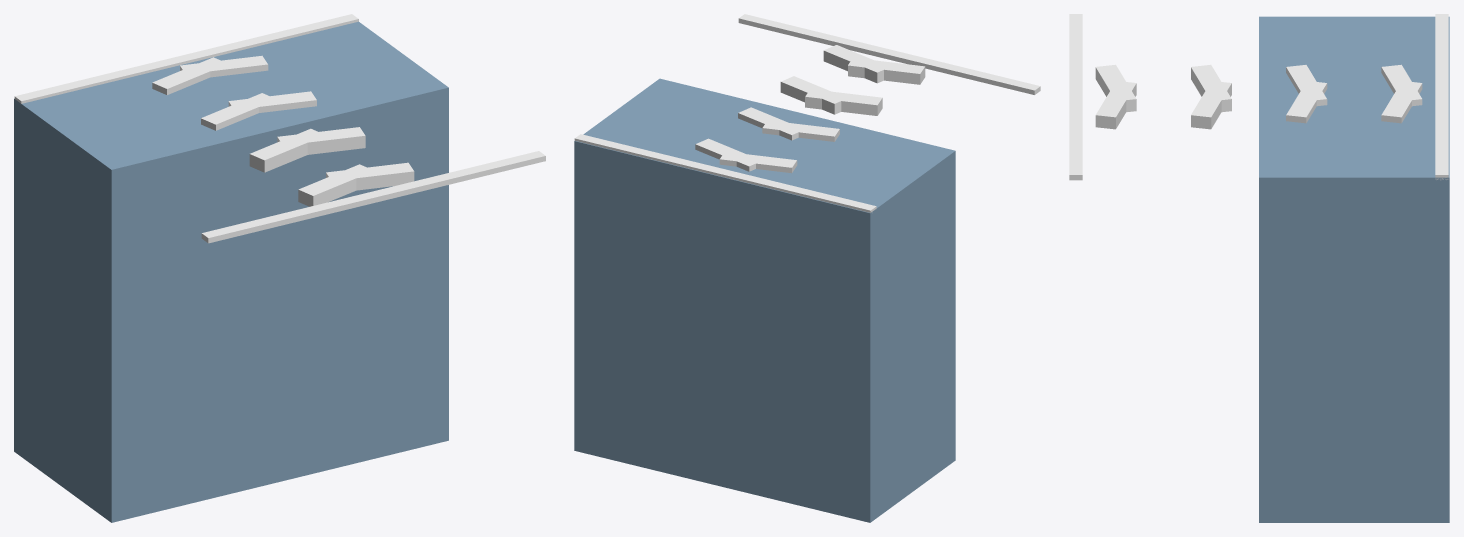
Rendered from OnOffConveyorB_VerticalSlab.glb.
3 views of the same model, side by side, from view 1: azimuth 30°, elevation 25°; view 2: azimuth 150°, elevation 25°; view 3: azimuth 270°, elevation 25° (orthographic). The views are drawn at different scales.
Parts seen in each view (by area): view 1: OnOffConveyorB_VerticalSlab_body, rail_-0.018, rail_0.018, chev_1_1.018, chev_0_1.018, chev_1_-1.018, chev_0_-1.018, chev_3_-1.018, chev_2_1.018, chev_2_-1.018, chev_3_1.018; view 2: OnOffConveyorB_VerticalSlab_body, rail_-0.018, rail_0.018, chev_0_1.018, chev_1_1.018, chev_1_-1.018, chev_3_1.018, chev_2_1.018, chev_0_-1.018, chev_3_-1.018, chev_2_-1.018; view 3: OnOffConveyorB_VerticalSlab_body, rail_-0.018, rail_0.018, chev_0_-1.018, chev_1_-1.018, chev_0_1.018, chev_1_1.018, chev_2_-1.018, chev_3_-1.018, chev_2_1.018, chev_3_1.018.
Boxes of the visible parts, x1,y1,x2,y2 form: OnOffConveyorB_VerticalSlab_body: (14,21,448,522); rail_-0.018: (201,151,545,243); rail_0.018: (14,14,358,103); chev_1_1.018: (249,128,325,172); chev_0_1.018: (298,164,373,206); chev_1_-1.018: (277,127,365,154); chev_0_-1.018: (326,162,414,190); chev_3_-1.018: (180,55,268,77); chev_2_1.018: (201,93,276,130); chev_2_-1.018: (228,91,316,112); chev_3_1.018: (152,57,227,94); OnOffConveyorB_VerticalSlab_body: (574,78,955,522); rail_-0.018: (738,14,1040,94); rail_0.018: (574,134,876,212); chev_0_1.018: (848,58,925,84); chev_1_1.018: (805,89,882,115); chev_1_-1.018: (780,76,847,114); chev_3_1.018: (719,151,797,173); chev_2_1.018: (762,120,839,141); chev_0_-1.018: (823,45,883,83); chev_3_-1.018: (695,138,760,171); chev_2_-1.018: (738,107,804,140); OnOffConveyorB_VerticalSlab_body: (1259,16,1449,522); rail_-0.018: (1069,14,1082,180); rail_0.018: (1435,14,1448,180); chev_0_-1.018: (1095,81,1136,129); chev_1_-1.018: (1191,81,1231,129); chev_0_1.018: (1095,64,1136,112); chev_1_1.018: (1191,64,1231,112); chev_2_-1.018: (1286,81,1327,123); chev_3_-1.018: (1381,81,1422,123); chev_2_1.018: (1286,65,1327,106); chev_3_1.018: (1381,64,1422,106).
Bounding box in the file's own units: 1 × 1.02 × 0.9975.
